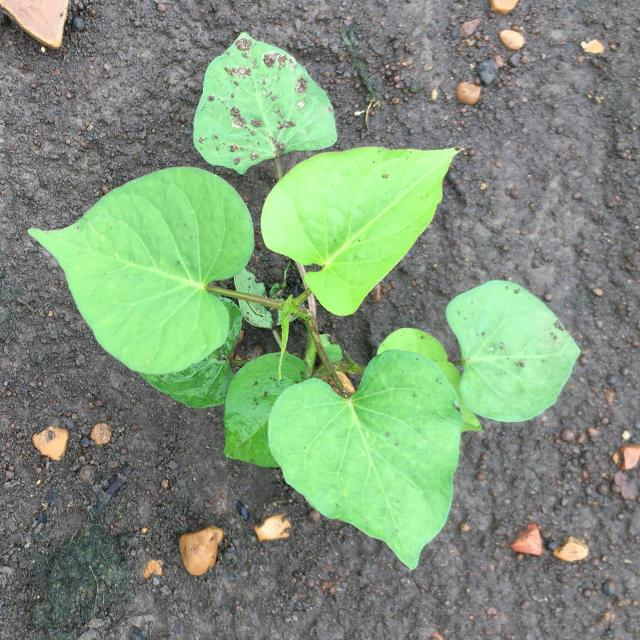MorningGlory: (28, 31, 582, 569)
